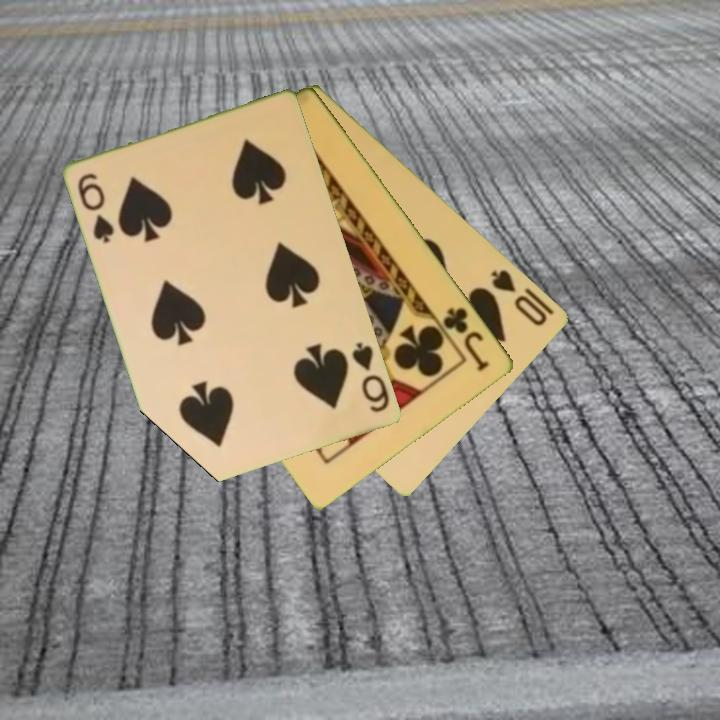10s: (488, 266, 551, 329)
6s: (349, 339, 393, 416), (74, 170, 118, 247)
Jc: (440, 303, 493, 374)
